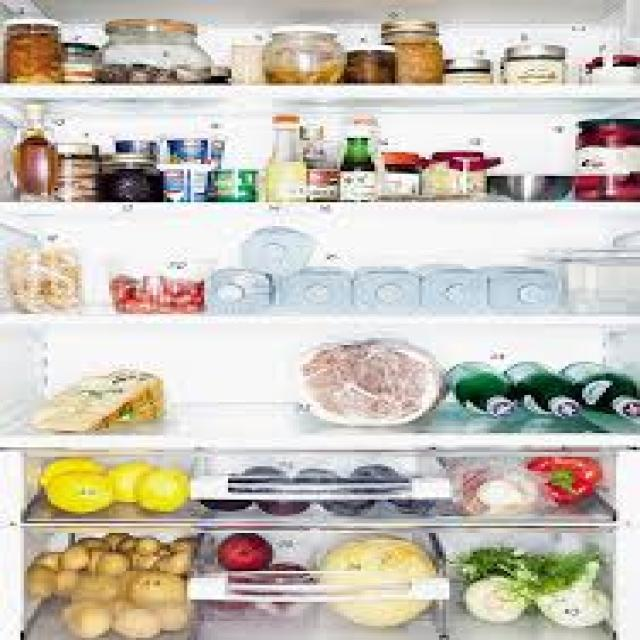lemons: (30, 443, 212, 515)
peppers: (508, 443, 622, 512)
potatoes: (21, 525, 196, 640)
